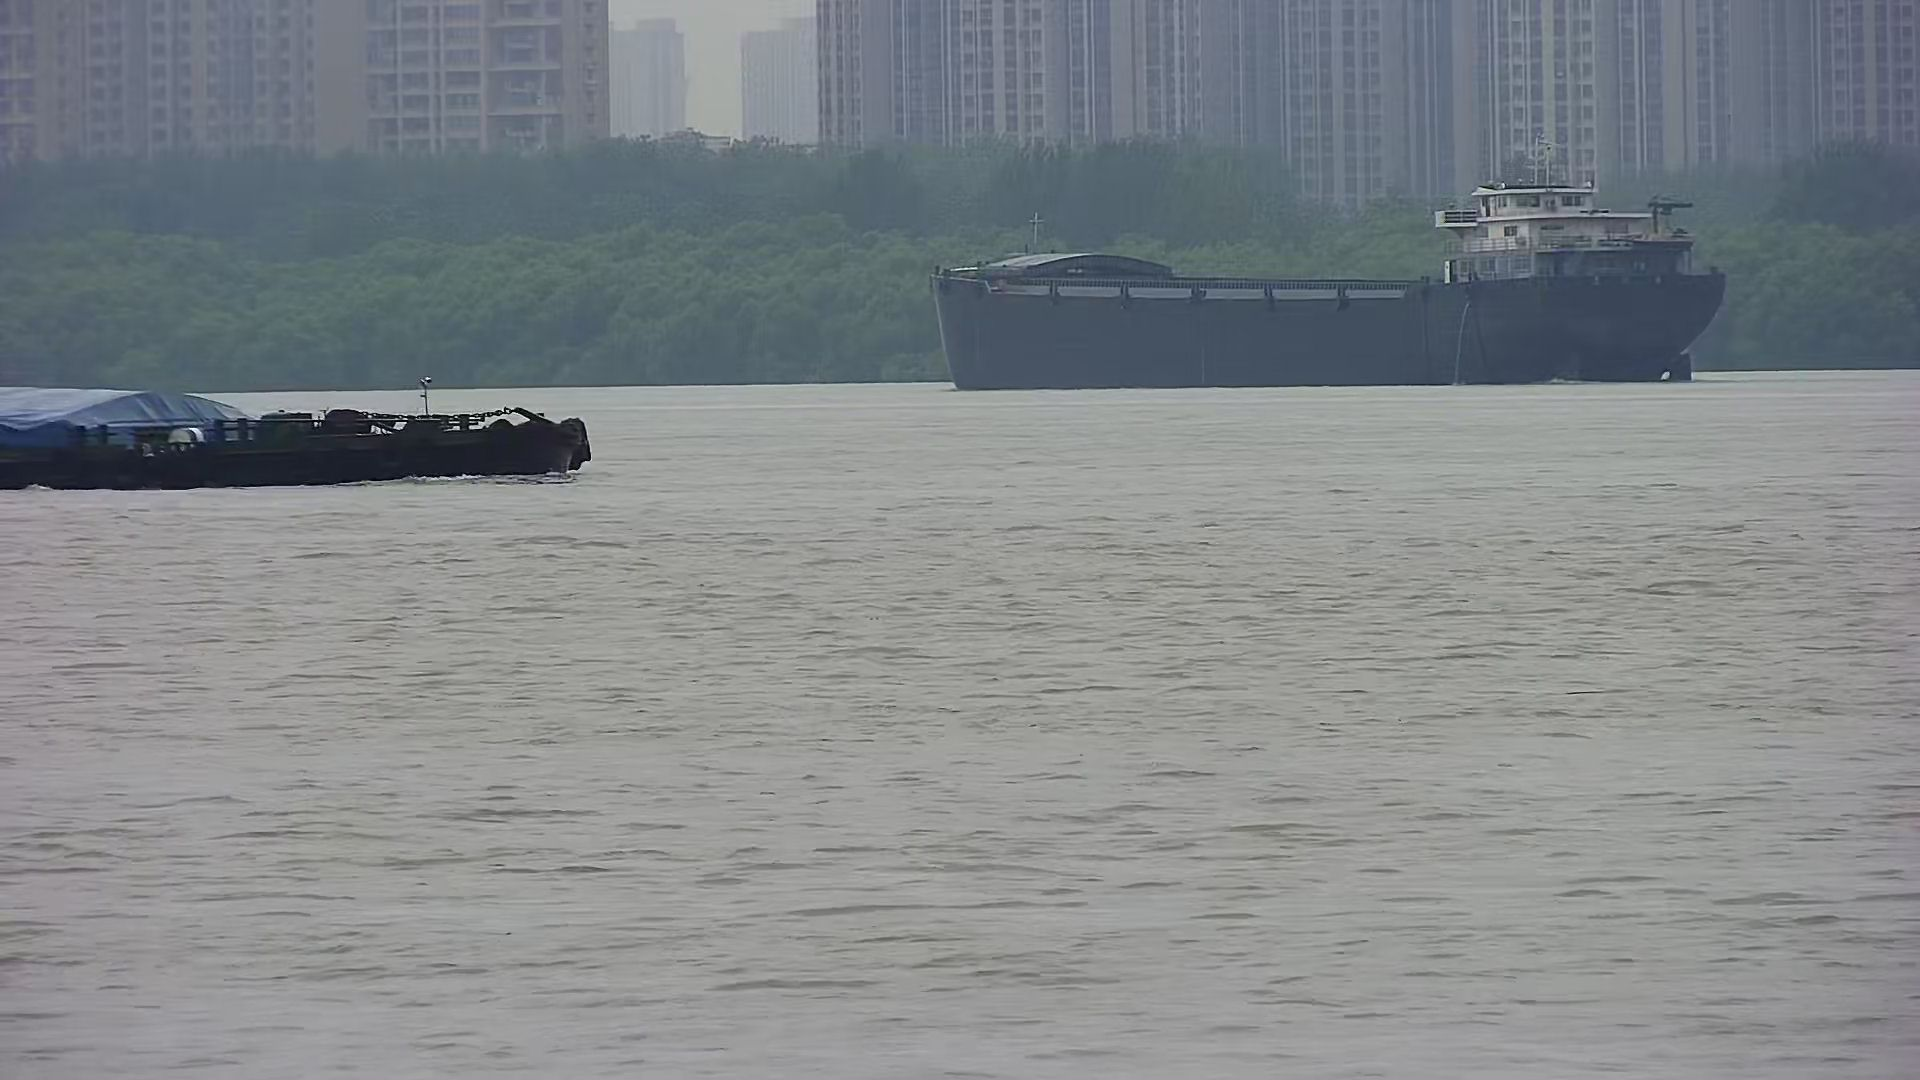ship: (935, 146, 1727, 392), (1, 375, 589, 488)
